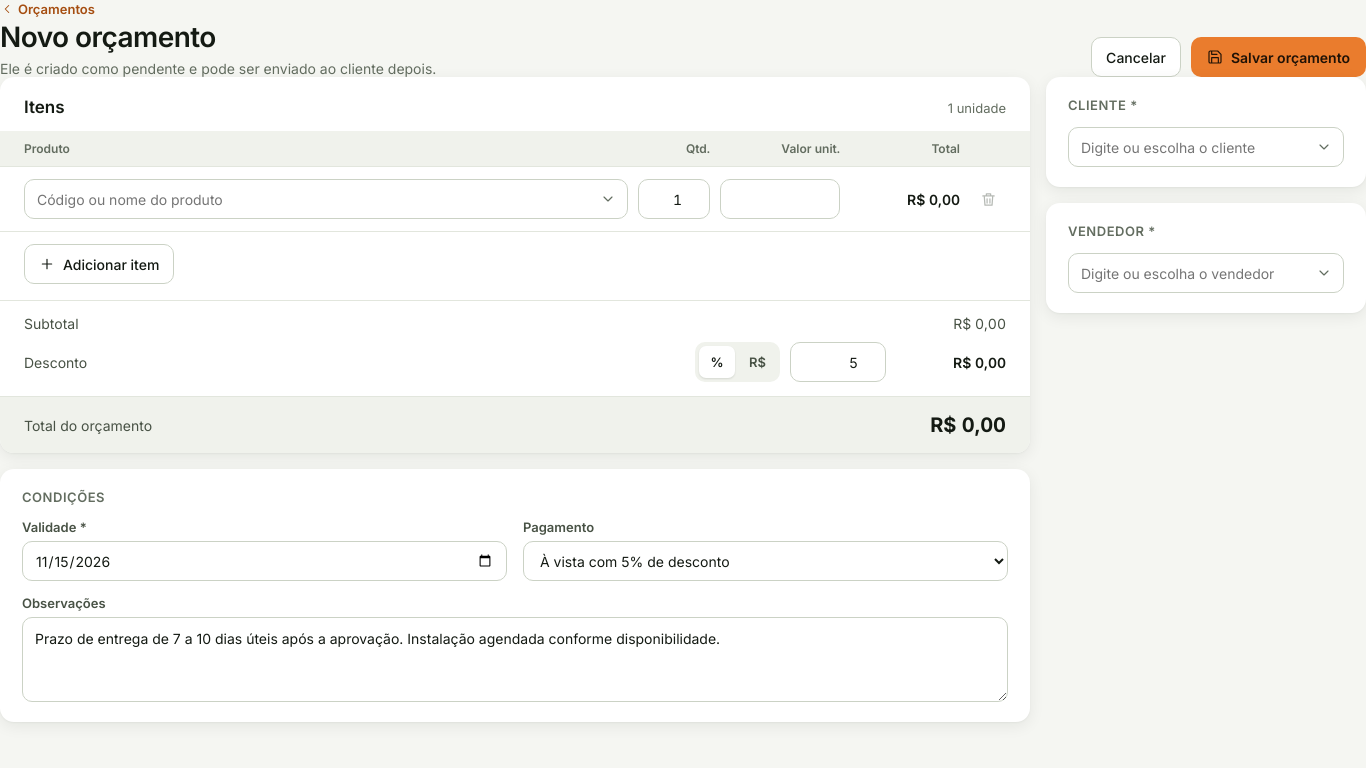
Scenario: novo orçamento › cadastra um cliente novo pela busca e já o escolhe
The width and height of the screenshot is (1366, 768).
Type "Padaria Teste" into the dropdown labelled "Cliente *". click: x=1206, y=147
box: [1068,127,1344,167]
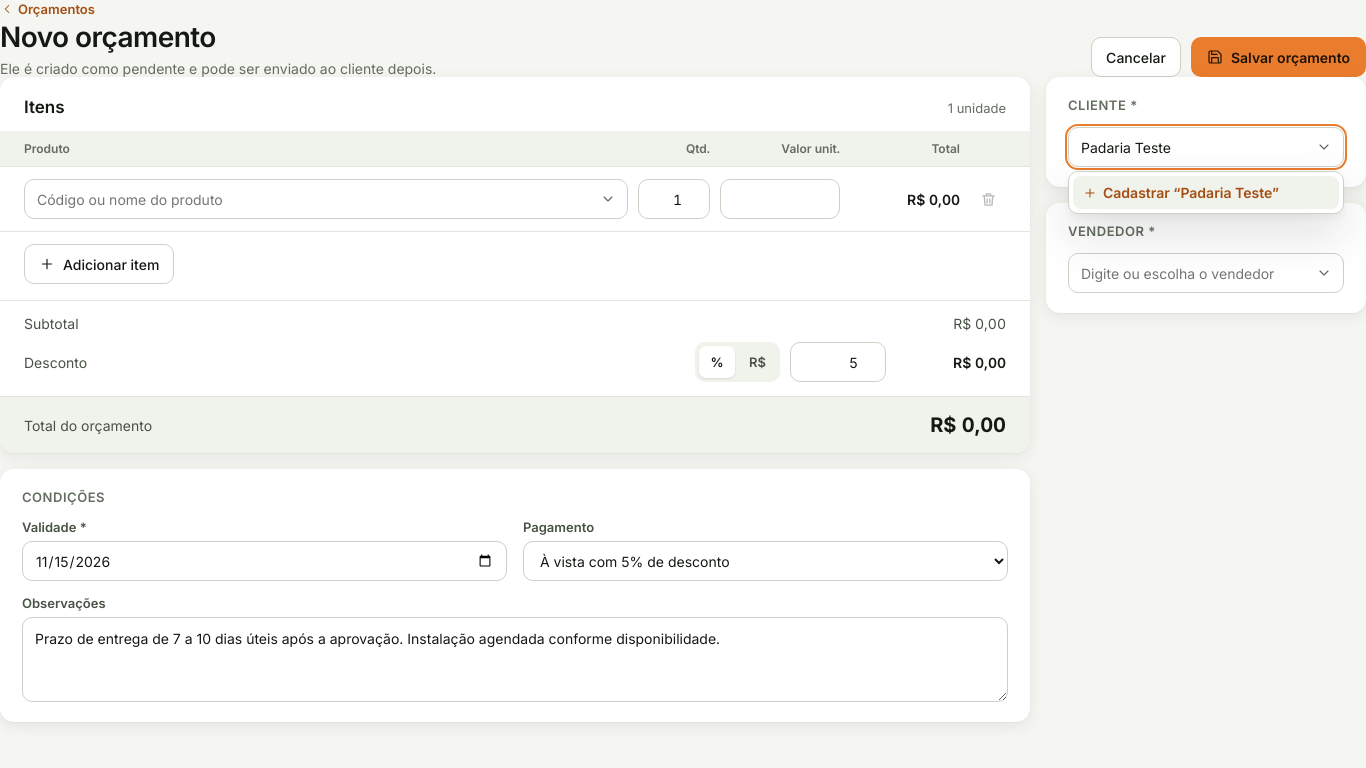
Click the option "Cadastrar “Padaria Teste”". click: x=1206, y=192
box: [1073,176,1339,209]
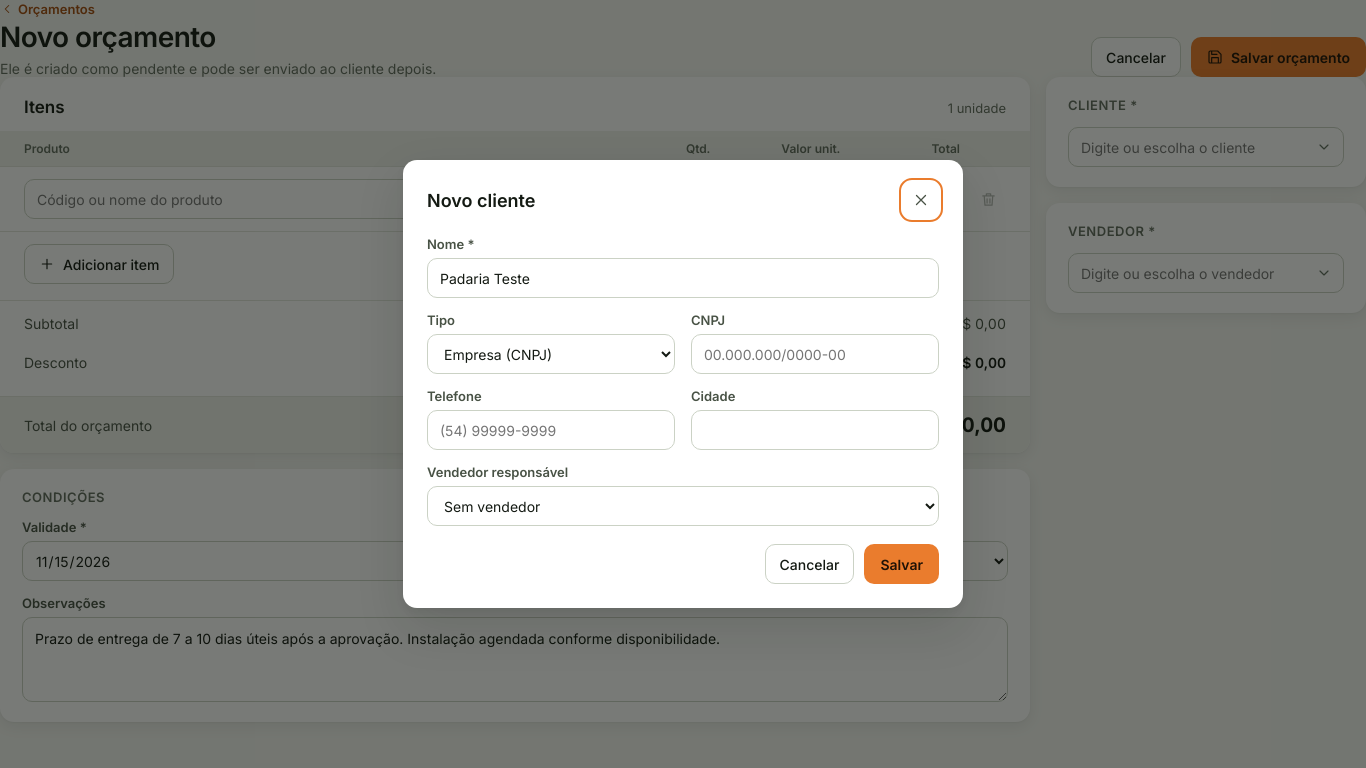
expect the field labelled "Nome *" holds "Padaria Teste": met, box [427,258,939,298]
Click the button "Salvar". click: x=902, y=564
box: [864,544,939,584]
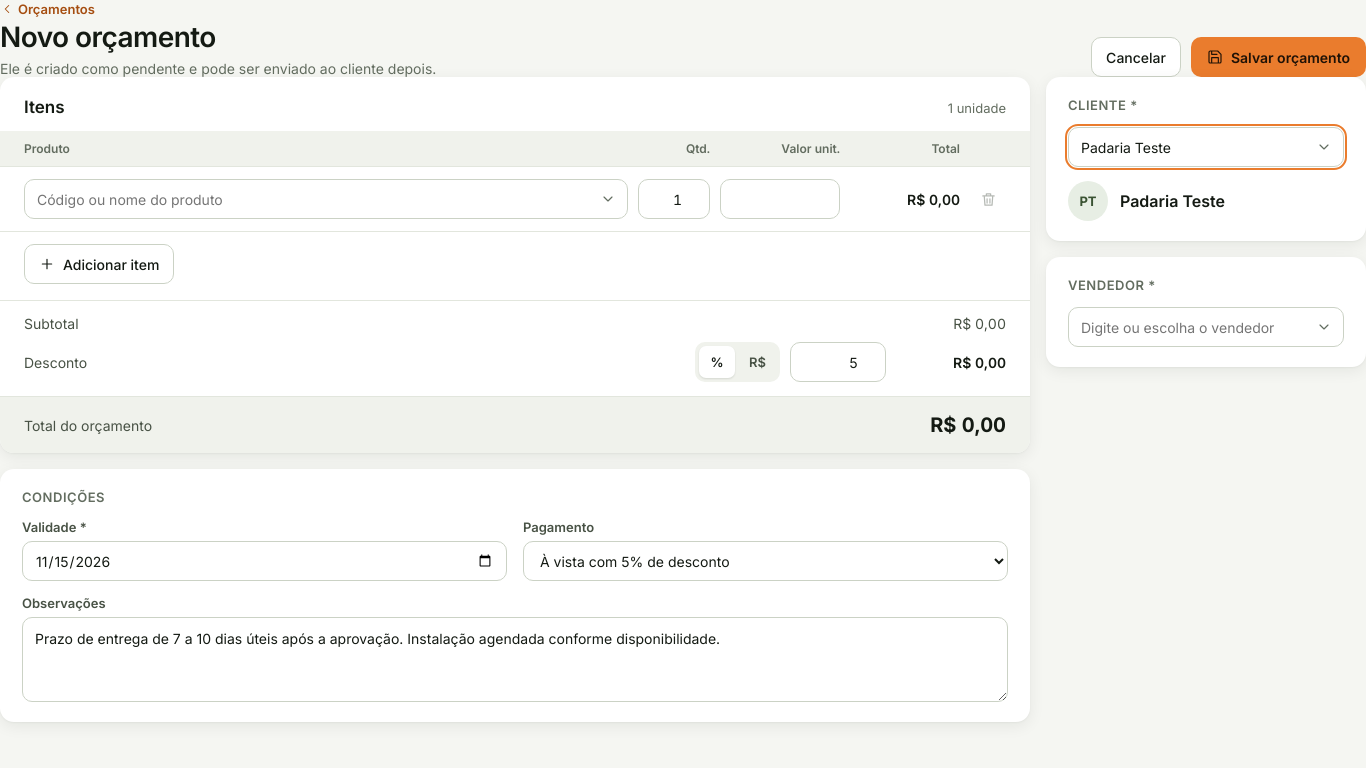
expect the text "PT" is shown: met, box [1068,181,1108,221]
expect the dialog is gone: met
